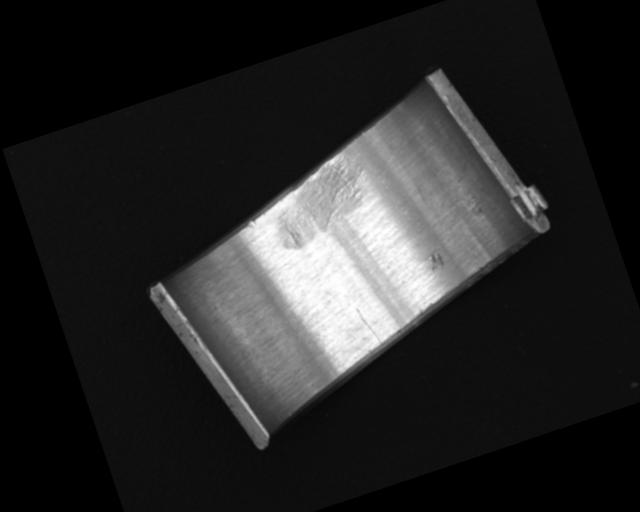bruise: (426, 250, 447, 273), (246, 218, 258, 229)
nick: (353, 302, 384, 351)
scratch: (258, 150, 382, 254)
